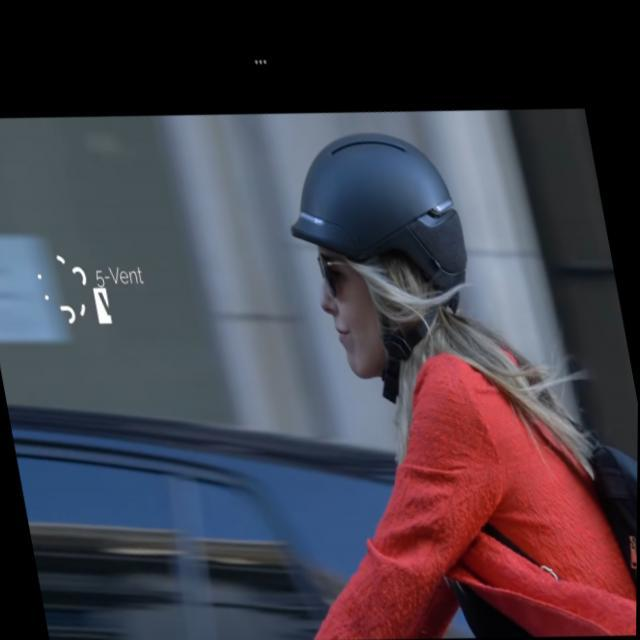Helmet: (282, 118, 494, 387)
